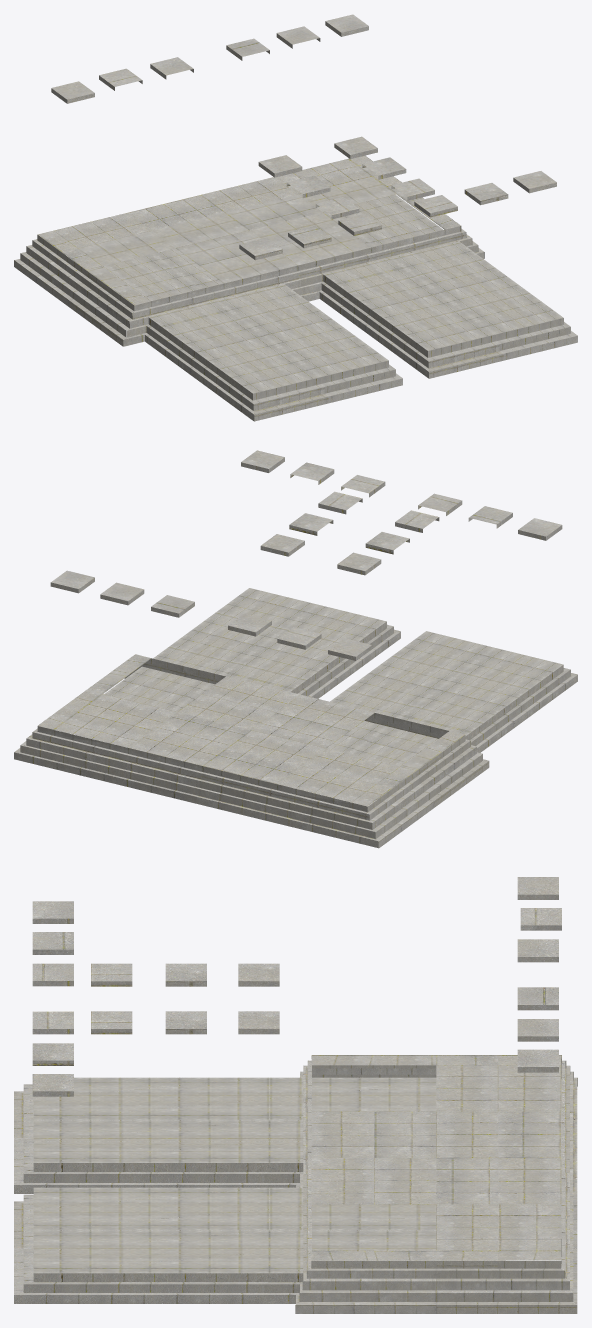
Rendered from propylaea_floortiles.dae.
3 views of the same model, one above another, from view 1: azimuth 30°, elevation 25°; view 2: azimuth 150°, elevation 25°; view 3: azimuth 270°, elevation 25° (orthographic). The views are drawn at different scales.
Visible parts, largest first — view 1: parthenon_OBJ_001; view 2: parthenon_OBJ_001; view 3: parthenon_OBJ_001.
Part boxes in pixels (box(x1,y1,x2,y2)): parthenon_OBJ_001: box(14, 14, 577, 421); parthenon_OBJ_001: box(14, 450, 577, 848); parthenon_OBJ_001: box(14, 877, 577, 1313).
Bounding box in the file's own units: 26.46 × 12.39 × 27.75.
